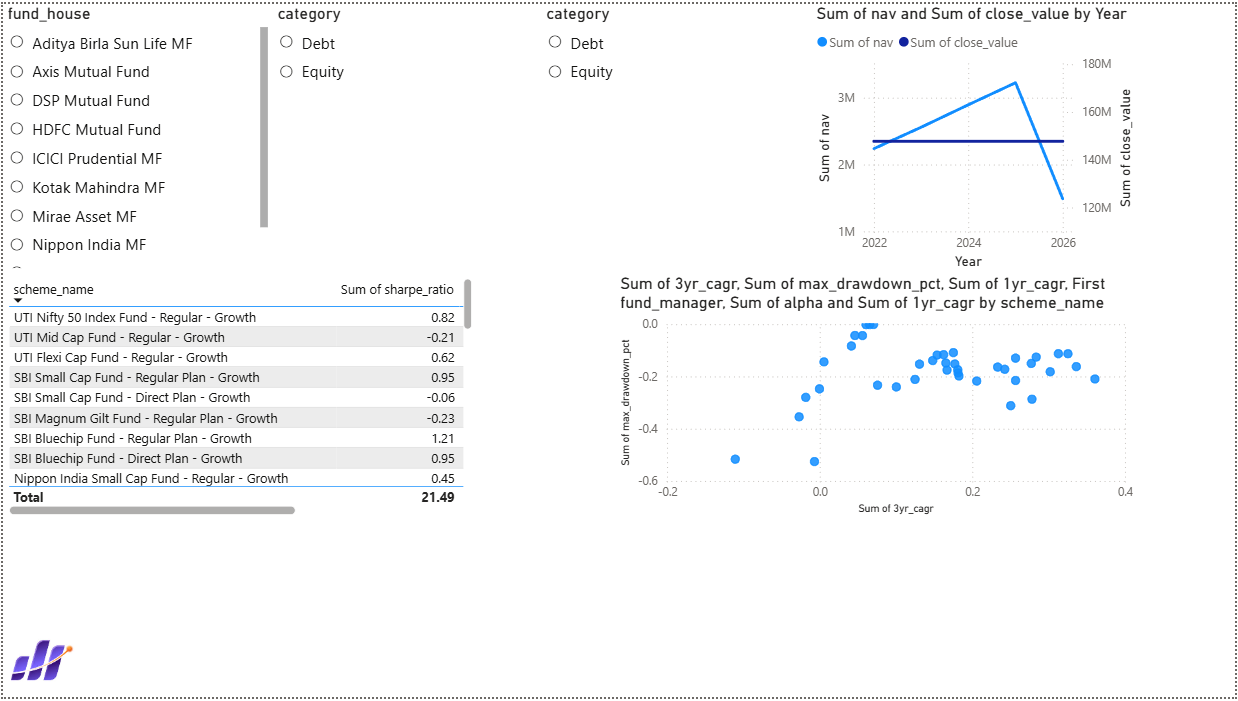

The dashboard page shown, as its layout file describes it:
{"tool":"powerbi","page":{"name":"Fund Performance","canvas":[1280,720],"ordinal":1},"visuals":[{"type":"listSlicer","fields":{"Values":["01_fund_master.fund_house"]},"box":[0,0,280,280],"z":0},{"type":"listSlicer","fields":{"Values":["01_fund_master.category"]},"box":[280,0,280,280],"z":1000},{"type":"listSlicer","fields":{"Values":["01_fund_master.category"]},"box":[560,0,280,280],"z":2000},{"type":"tableEx","fields":{"Values":["01_fund_master.scheme_name","Sum(fund_scorecard.sharpe_ratio)","Sum(fund_scorecard.score)","Sum(fund_scorecard.alpha)","Sum(fund_scorecard.3yr_cagr)"]},"box":[0,280,492.5,255],"z":3000},{"type":"scatterChart","fields":{"Category":["01_fund_master.scheme_name"],"X":["Sum(fund_scorecard.3yr_cagr)"],"Y":["Sum(fund_scorecard.max_drawdown_pct)"]},"box":[636.2,280,542.5,255],"z":4000},{"type":"lineChart","fields":{"Category":["02_nav_history.date.Variation.Date Hierarchy.Year","02_nav_history.date.Variation.Date Hierarchy.Quarter","02_nav_history.date.Variation.Date Hierarchy.Month","02_nav_history.date.Variation.Date Hierarchy.Day"],"Y":["Sum(02_nav_history.nav)"],"Y2":["Sum(10_benchmark_indices.close_value)"]},"box":[840,0,338.8,280],"z":5000},{"type":"image","box":[0,642.5,77.5,77.5],"z":6000}]}

Visuals, with their boxes in screenshot pixels (x1, y1, x2, y2), scaled from the page's 1280x720 canvas onto the 1238x701 screenshot:
listSlicer - 01_fund_master.fund_house: 0,0,271,273
listSlicer - 01_fund_master.category: 271,0,542,273
listSlicer - 01_fund_master.category: 542,0,812,273
tableEx - 01_fund_master.scheme_name x Sum(fund_scorecard.sharpe_ratio): 0,273,476,521
scatterChart - 01_fund_master.scheme_name x Sum(fund_scorecard.3yr_cagr): 615,273,1140,521
lineChart - 02_nav_history.date.Variation.Date Hierarchy.Year x 02_nav_history.date.Variation.Date Hierarchy.Quarter: 812,0,1140,273
image: 0,626,75,700
